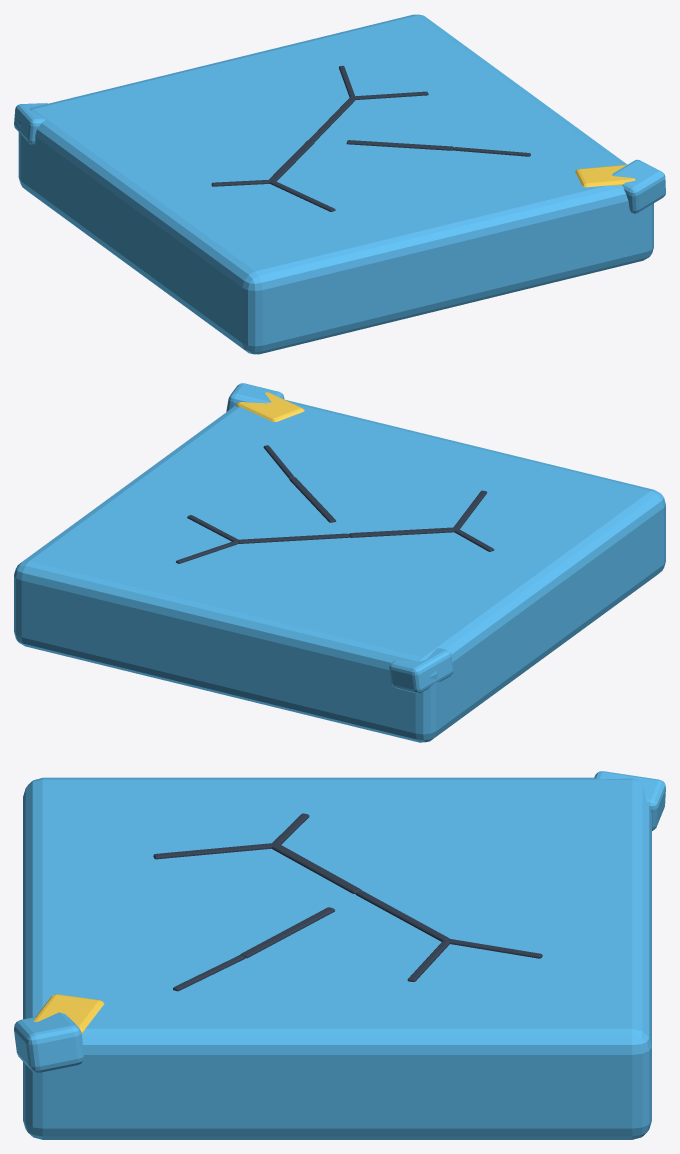
File: fragile-block.glb
3 renders of one model, top to bottom at view 1: azimuth 30°, elevation 25°; view 2: azimuth 150°, elevation 25°; view 3: azimuth 270°, elevation 25°, orthographic. The views are drawn at different scales.
Parts seen in each view (by area): view 1: State2_Block, State0_Block, State1_Block, State2_LooseChip_A, FragileBlock_State1_Damaged_ExposedInner, State2_LooseChip_B, FragileBlock_State2_Critical_Crack_C1; view 2: State0_Block, State1_Block, State2_Block, State2_LooseChip_B, FragileBlock_State1_Damaged_ExposedInner, State2_LooseChip_A, FragileBlock_State2_Critical_Crack_B1, FragileBlock_State1_Damaged_Crack_A1; view 3: State0_Block, State2_Block, State1_Block, State2_LooseChip_A, FragileBlock_State1_Damaged_ExposedInner, State2_LooseChip_B, FragileBlock_State2_Critical_Crack_B1, FragileBlock_State2_Critical_Crack_C1, FragileBlock_State1_Damaged_Crack_A1, FragileBlock_State2_Critical_Crack_B3, FragileBlock_State1_Damaged_Crack_A3.
Boxes of the visible parts, x1,y1,x2,y2 form: State2_Block: (37, 15, 606, 352); State0_Block: (18, 14, 653, 354); State1_Block: (256, 16, 622, 352); State2_LooseChip_A: (612, 159, 665, 213); FragileBlock_State1_Damaged_ExposedInner: (575, 164, 635, 187); State2_LooseChip_B: (14, 103, 47, 144); FragileBlock_State2_Critical_Crack_C1: (346, 140, 453, 150); State0_Block: (14, 399, 665, 742); State1_Block: (26, 402, 651, 560); State2_Block: (21, 405, 663, 733); State2_LooseChip_B: (389, 648, 453, 693); FragileBlock_State1_Damaged_ExposedInner: (236, 392, 304, 421); State2_LooseChip_A: (226, 383, 284, 411); FragileBlock_State2_Critical_Crack_B1: (349, 527, 454, 537); FragileBlock_State1_Damaged_Crack_A1: (238, 533, 349, 543); State0_Block: (23, 777, 651, 1139); State2_Block: (23, 777, 651, 1139); State1_Block: (23, 780, 632, 1139); State2_LooseChip_A: (14, 1012, 83, 1072); FragileBlock_State1_Damaged_ExposedInner: (33, 994, 104, 1033); State2_LooseChip_B: (594, 771, 665, 830); FragileBlock_State2_Critical_Crack_B1: (271, 844, 361, 893); FragileBlock_State2_Critical_Crack_C1: (240, 907, 334, 958); FragileBlock_State1_Damaged_Crack_A1: (355, 890, 449, 941); FragileBlock_State2_Critical_Crack_B3: (153, 843, 273, 859); FragileBlock_State1_Damaged_Crack_A3: (448, 939, 542, 958).
Size of the model in its own units: 2.49 by 0.4979 by 2.49.
